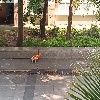fire: (33, 52, 41, 60)
